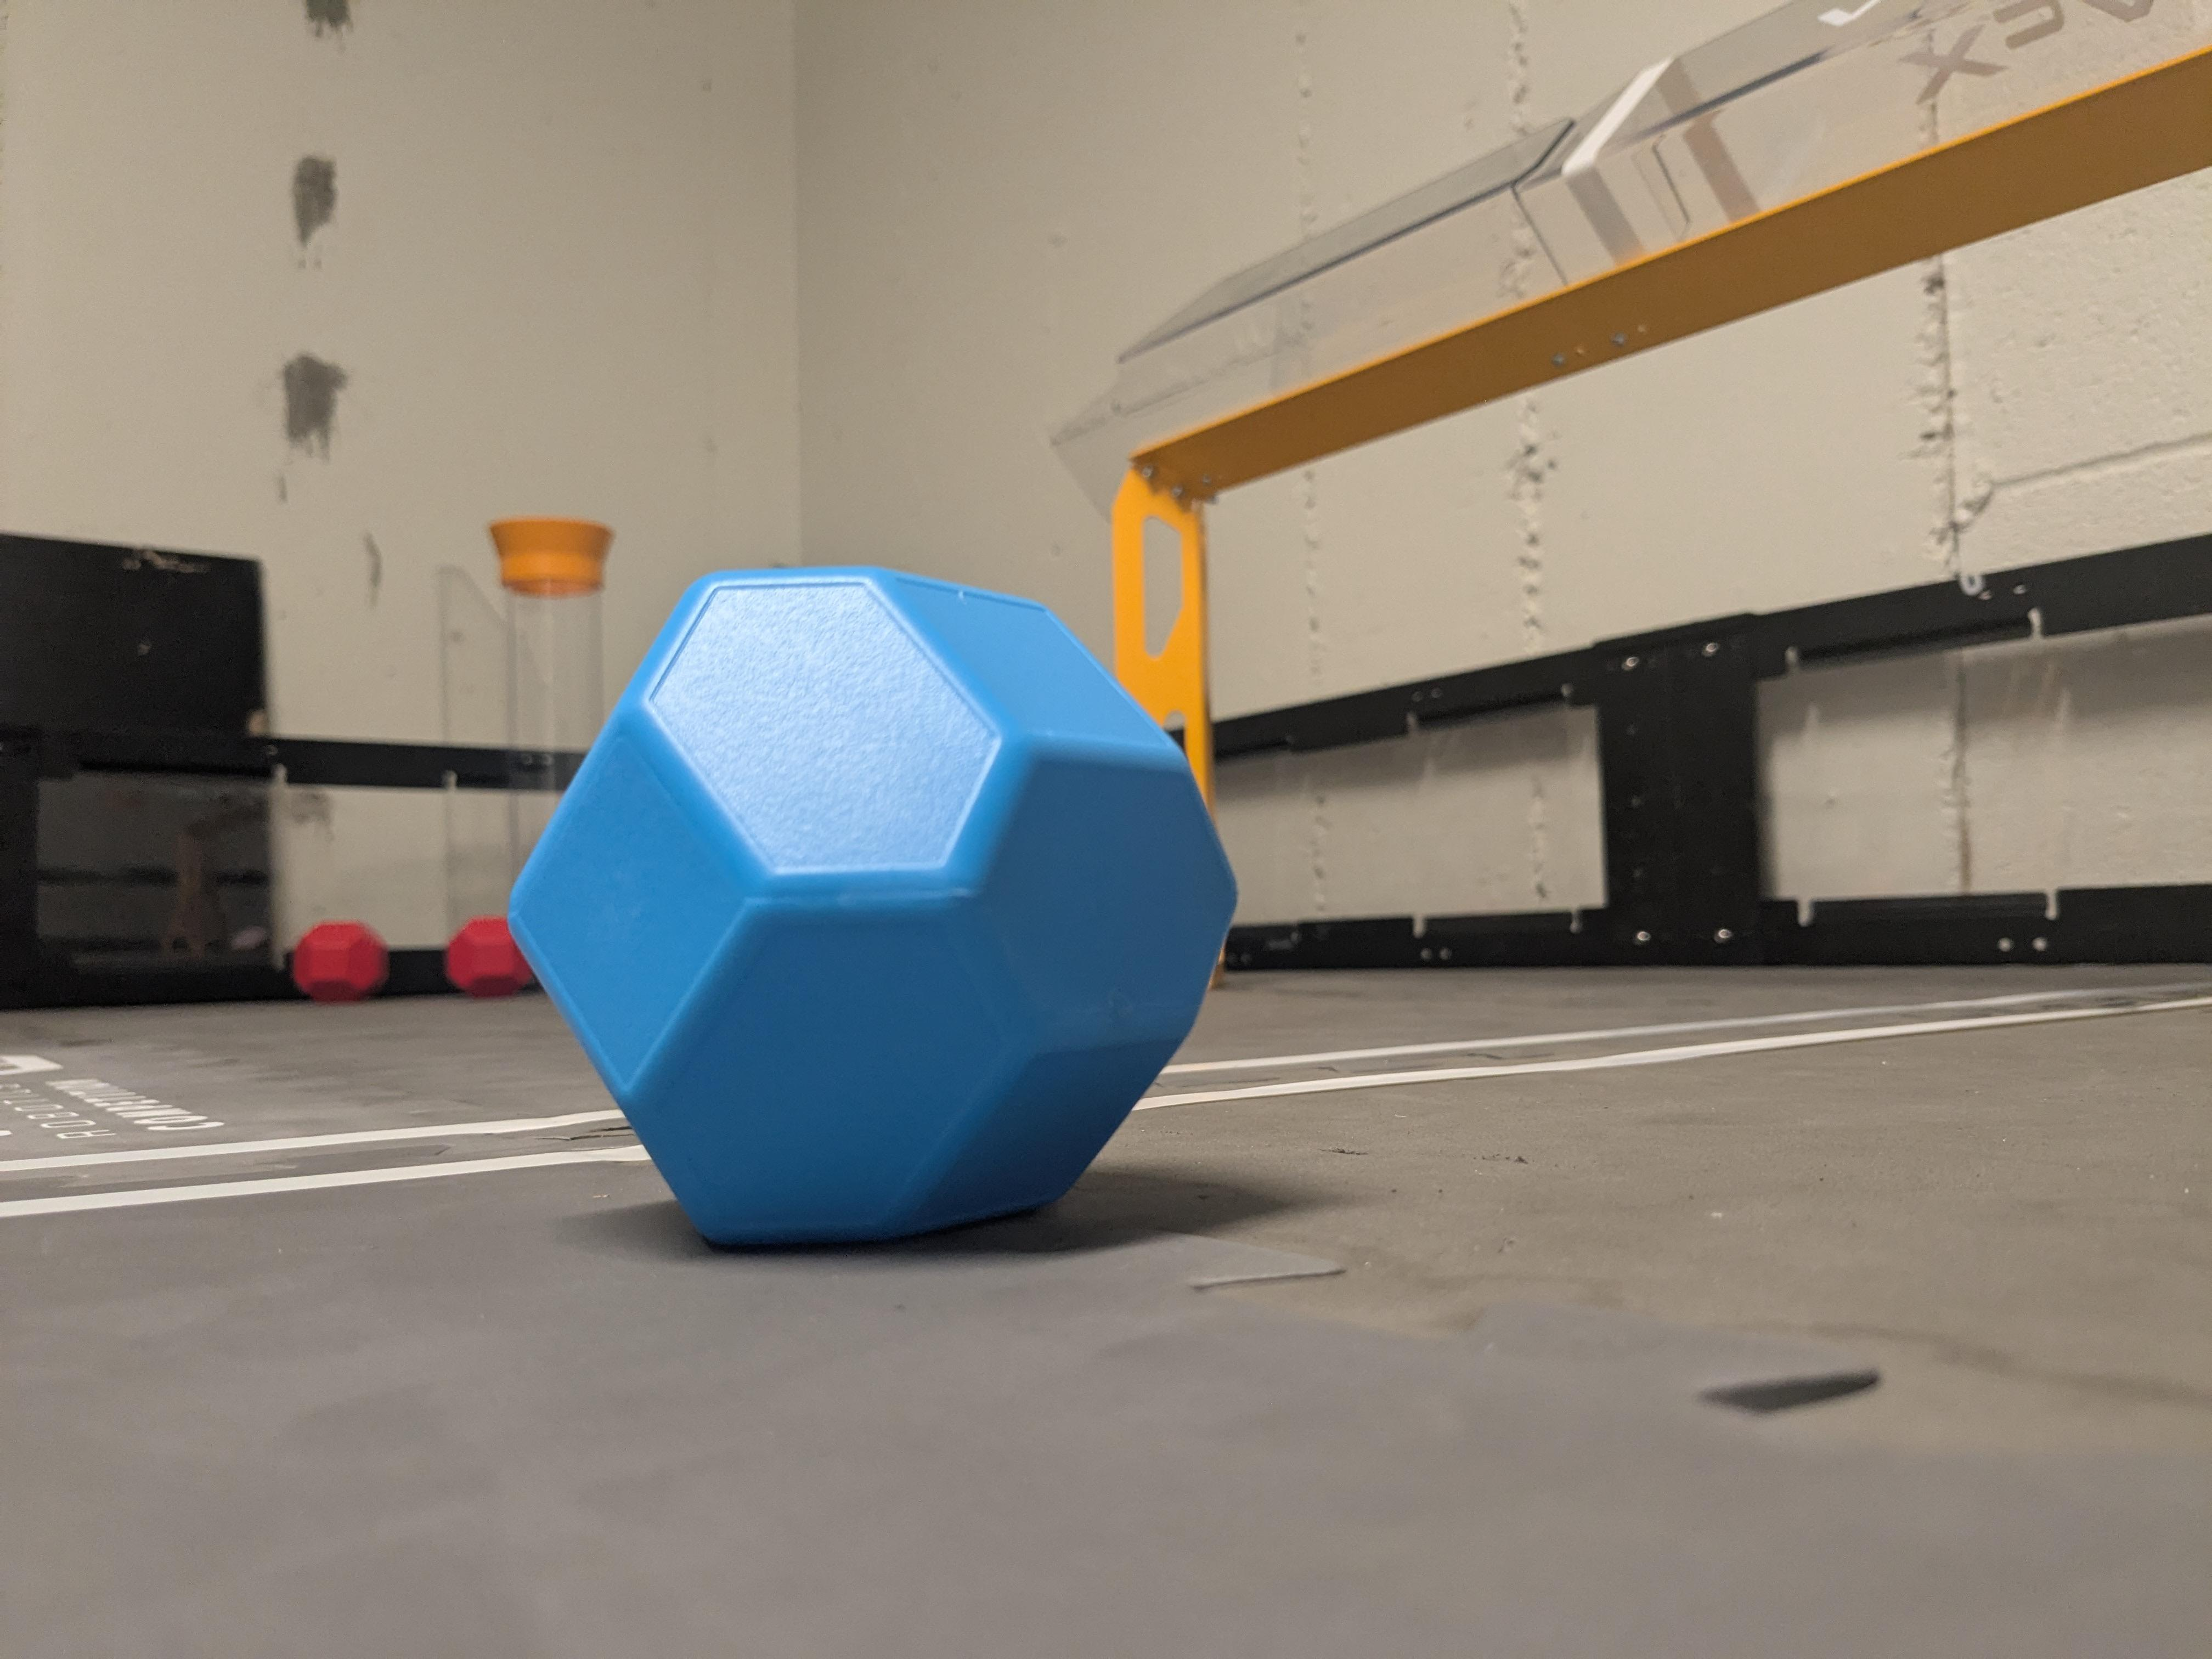Vex-Pieces-BLUE: (519, 573, 1240, 1256)
